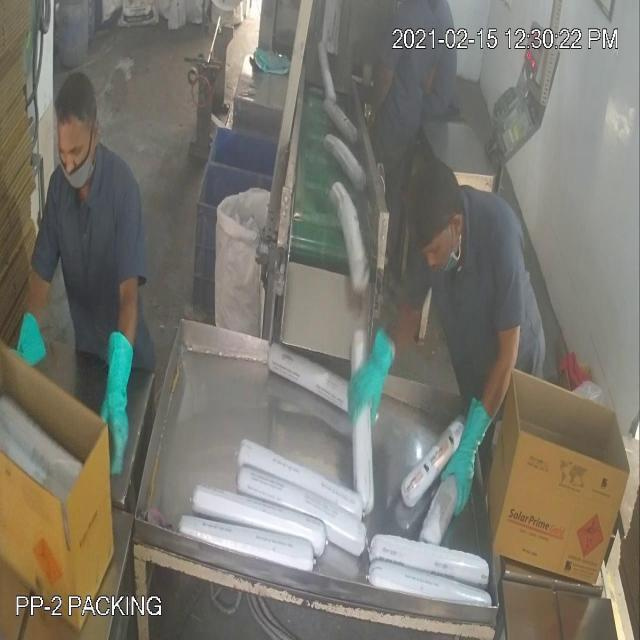Gloves: (43, 88, 461, 453)
